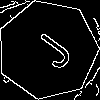J: (22, 24, 76, 72)
